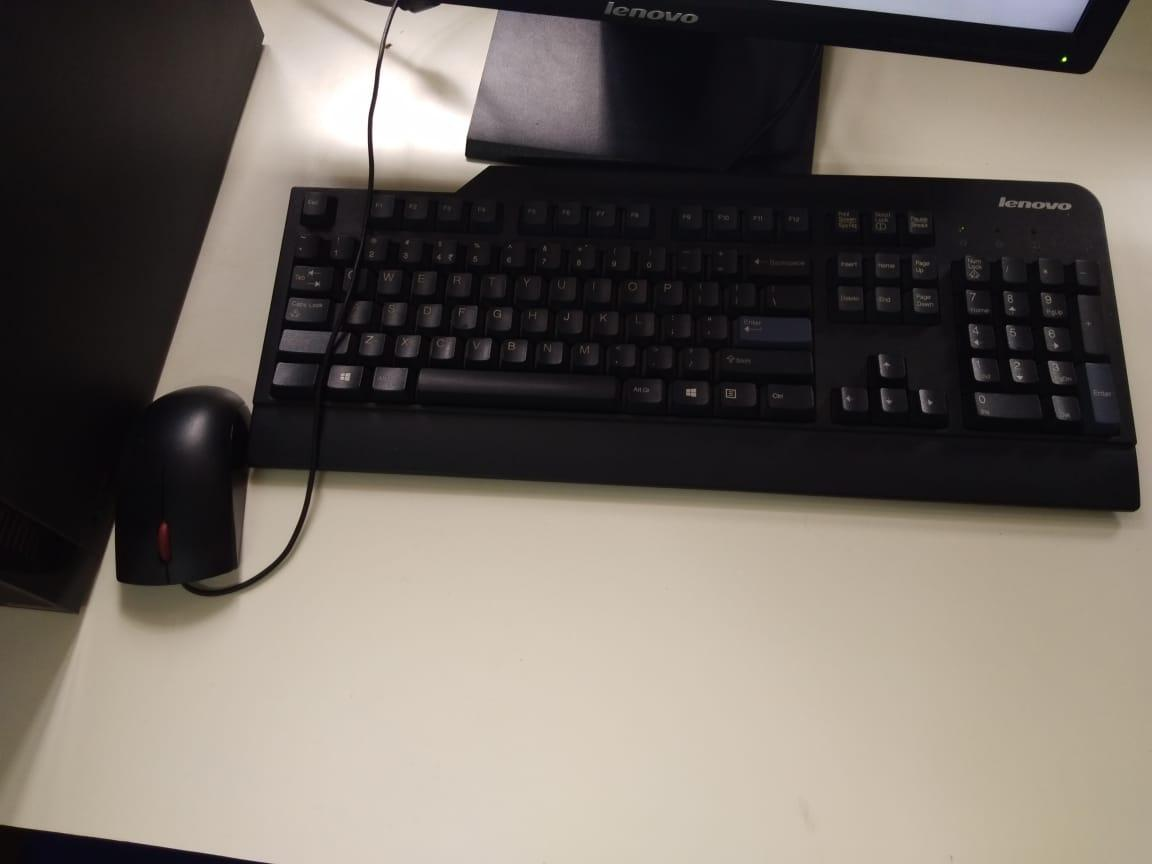keyboard: (247, 160, 1151, 524)
mouse: (104, 367, 262, 621)
